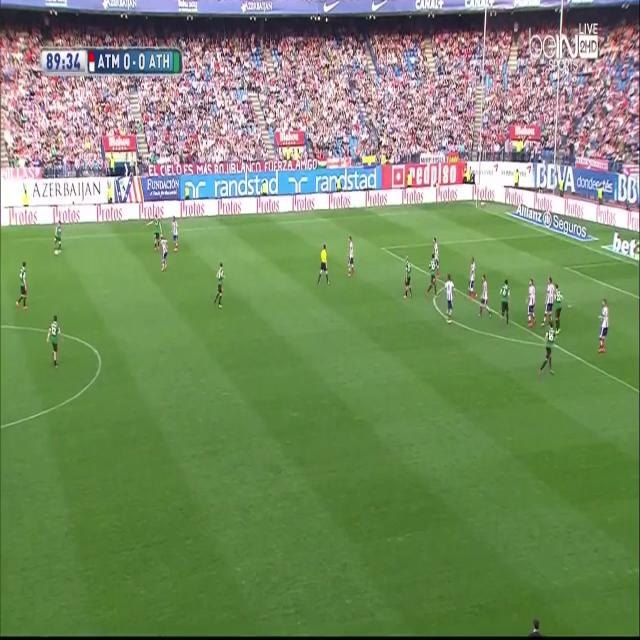Ball: (54, 246, 60, 258)
Player: (538, 320, 556, 379), (46, 314, 62, 370), (541, 276, 555, 334), (15, 260, 30, 314), (211, 261, 227, 309), (525, 275, 538, 333), (598, 296, 610, 358), (424, 253, 439, 302), (479, 272, 493, 324), (499, 277, 511, 332), (402, 252, 414, 303), (146, 212, 162, 250), (554, 279, 565, 334), (445, 273, 457, 322), (466, 254, 478, 303), (346, 232, 357, 281), (168, 214, 180, 256), (160, 233, 170, 277), (53, 218, 64, 252), (432, 233, 441, 266)
Referee: (316, 242, 331, 290)
